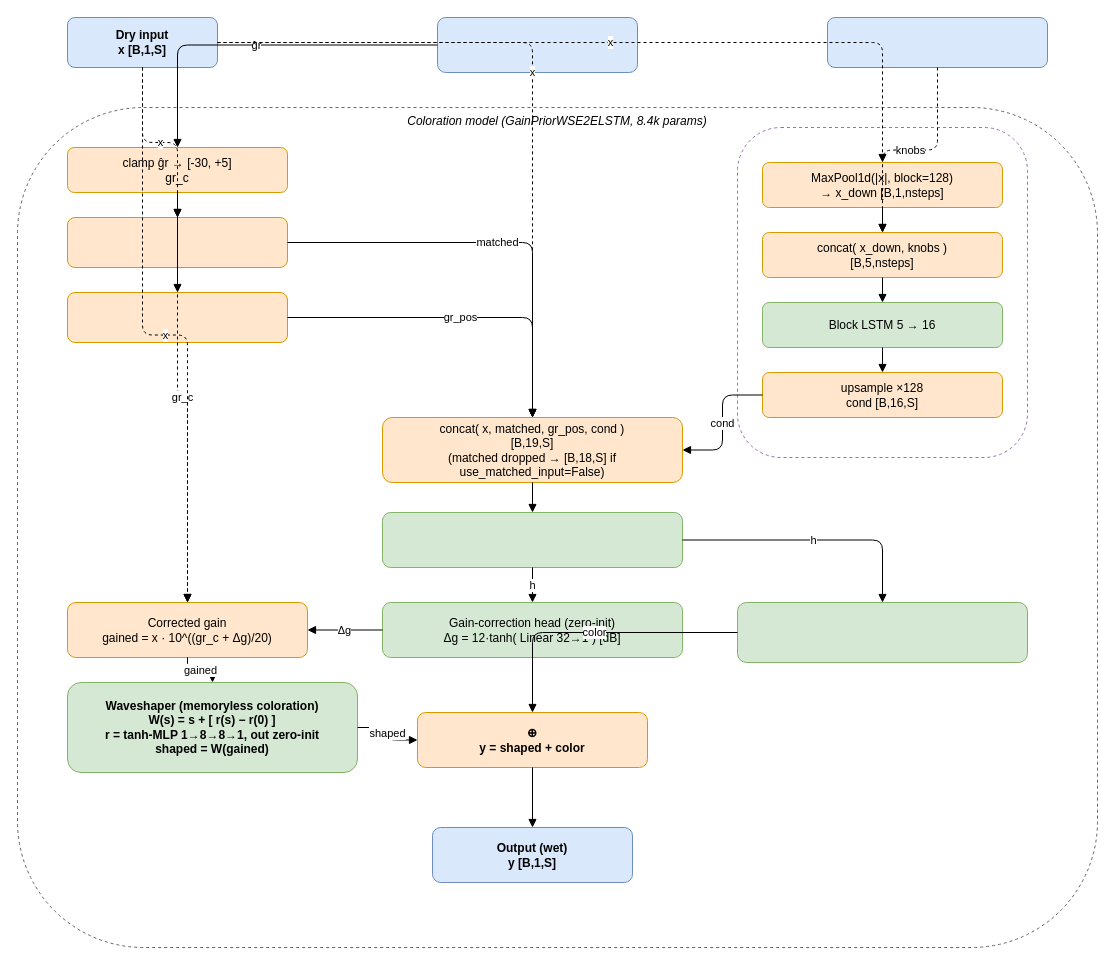
The diagram is 1115 pixels wide and 965 high, and some of its shapes have lost their labels. Each missing label, with the box of its shape:
Additive color head (zero-init) color = Linear 32→1 [B,1,S]: (736, 602, 1028, 662)
Amplitude match matched = x · 10^(gr_c/20) [B,1,S]: (66, 216, 288, 268)
Compression-positive gr_pos = (5 − gr_c)/35 [B,1,S]: (66, 292, 288, 342)
Knob conditioning (TVFiLMCond → concatenated, not γ/β FiLM): (736, 126, 1028, 458)
Knobs p [B,4] (threshold, ratio, attack, release): (826, 16, 1048, 68)
Main sample-rate LSTM 19 → 32 → h [B,S,32]: (382, 512, 682, 568)
Predicted GR ĝr [B,1,S] (dB) (from frozen stage-1 predictor): (436, 16, 638, 72)
